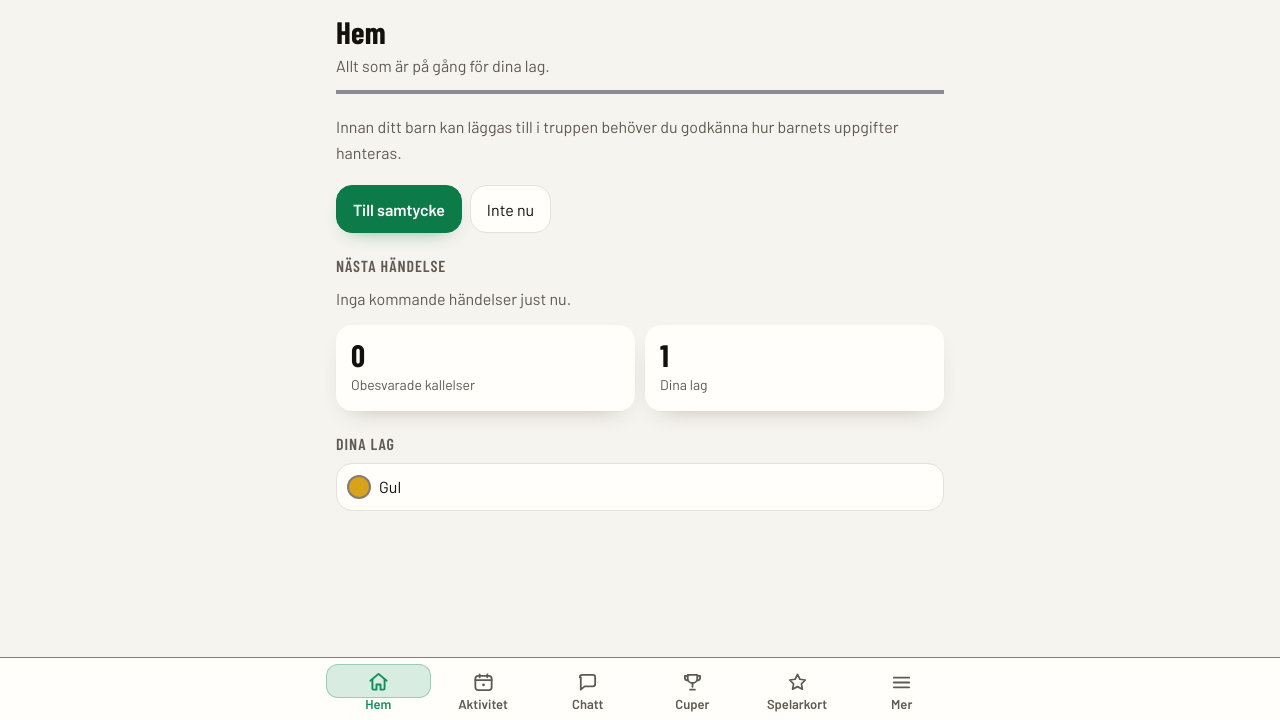
Test case: hem-vyn visar det som är på gång › nudgar om samtycke när föräldern inte godkänt, och går att avfärda (#597)
The width and height of the screenshot is (1280, 720).
expect the text "Innan ditt barn kan läggas till i truppen" is shown: met, box [336,117,898,162]
Step 1. Click the button "Inte nu" → click(511, 209), box [470,185,551,233]
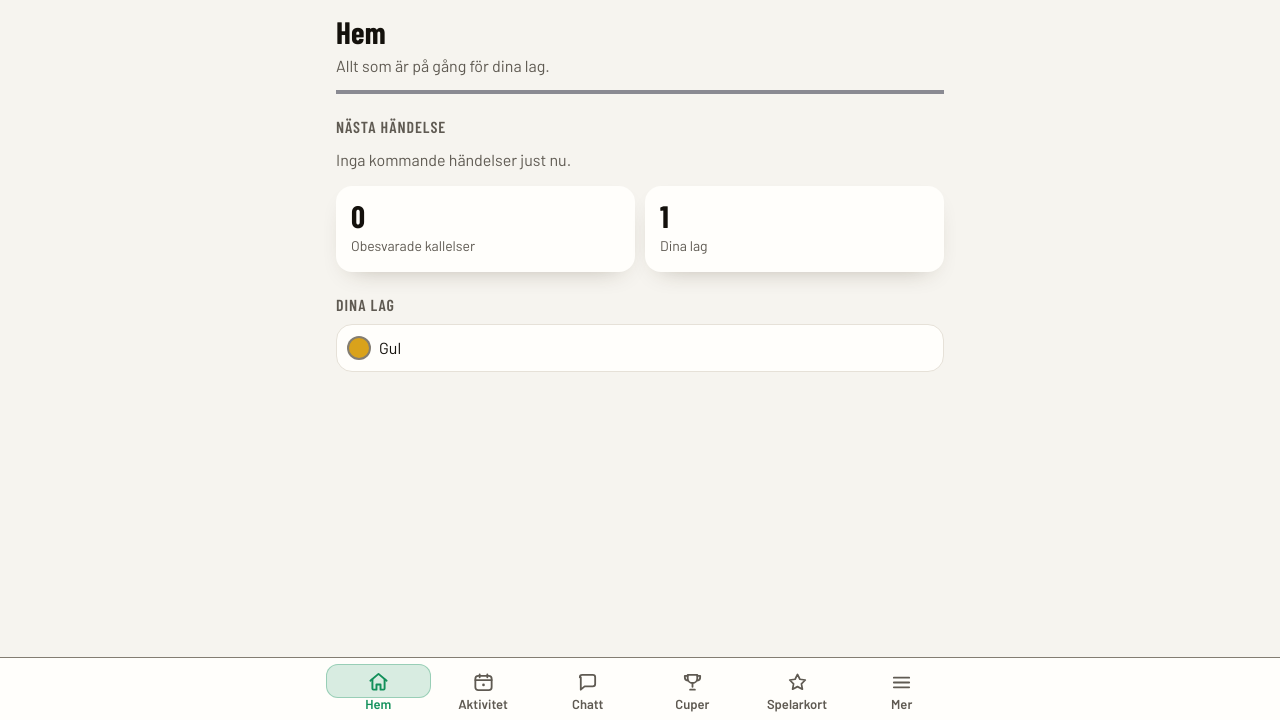
expect the text "Innan ditt barn kan läggas till i truppen" is gone: met
